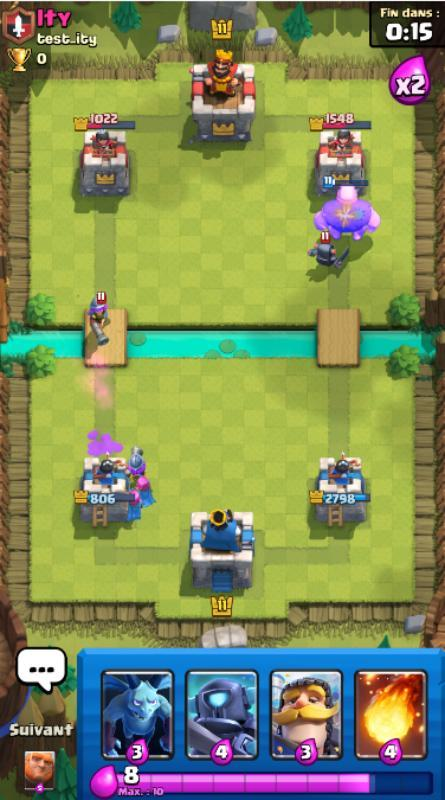archere: (128, 473, 157, 506), (122, 486, 146, 522)
geant: (313, 175, 381, 241)
mini_PEKKA: (307, 230, 351, 271)
mousquetaire: (88, 291, 111, 345), (124, 446, 148, 481)
